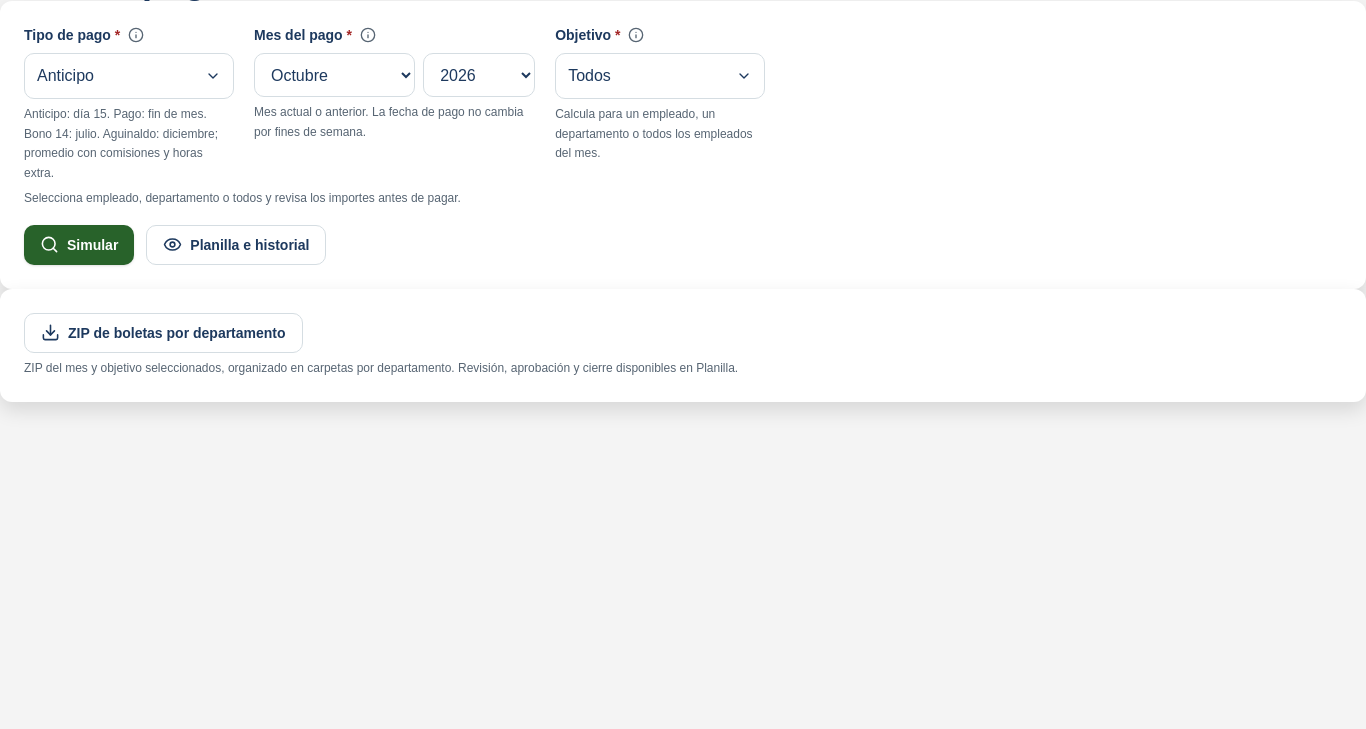
Test case: A11: simulación guiada y confirmación › confirmación final usa hash, evita doble envío y orienta si cambian las fuentes
Click the button "Simular" at (79, 244), box x1=24 y1=224 x2=134 y2=264
(page scrolled)
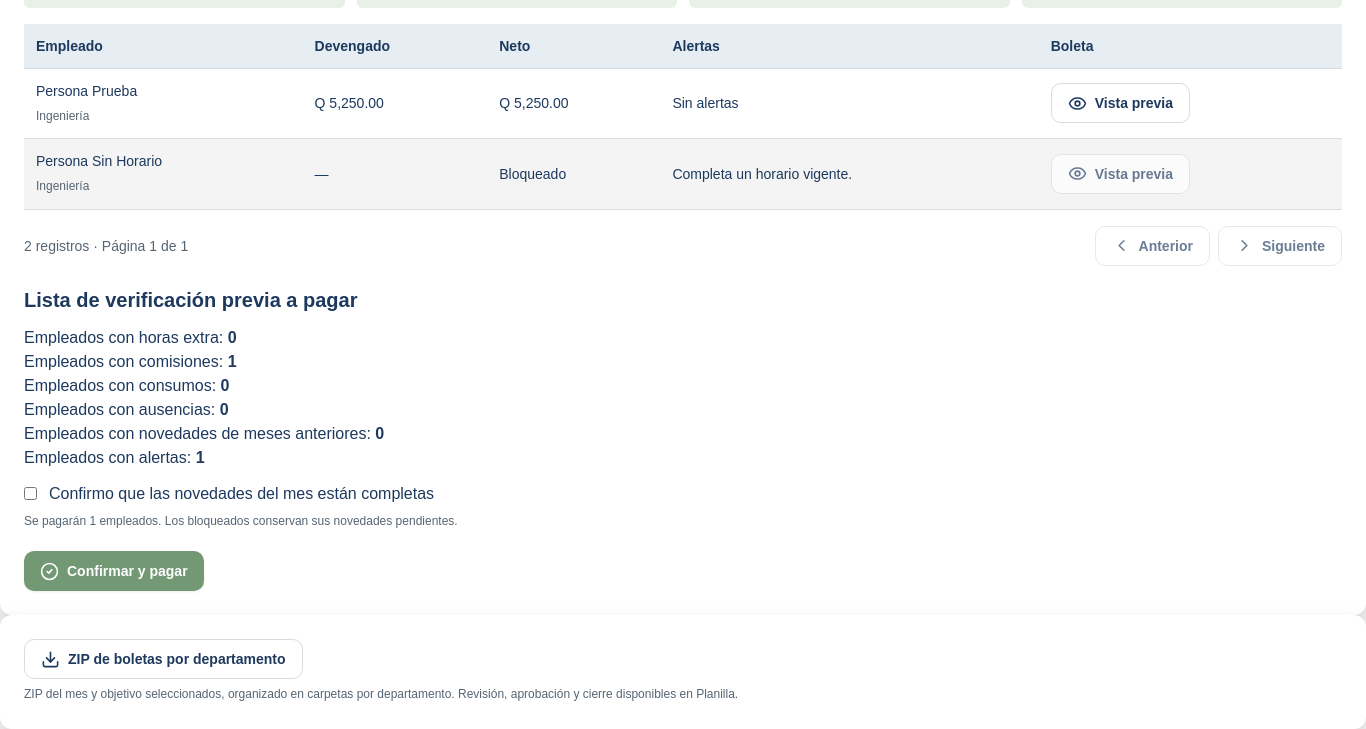
Expected: the text "Persona Prueba" is shown, x1=36 y1=82 x2=137 y2=98
Click the checkbox at (30, 494), box x1=24 y1=487 x2=37 y2=500
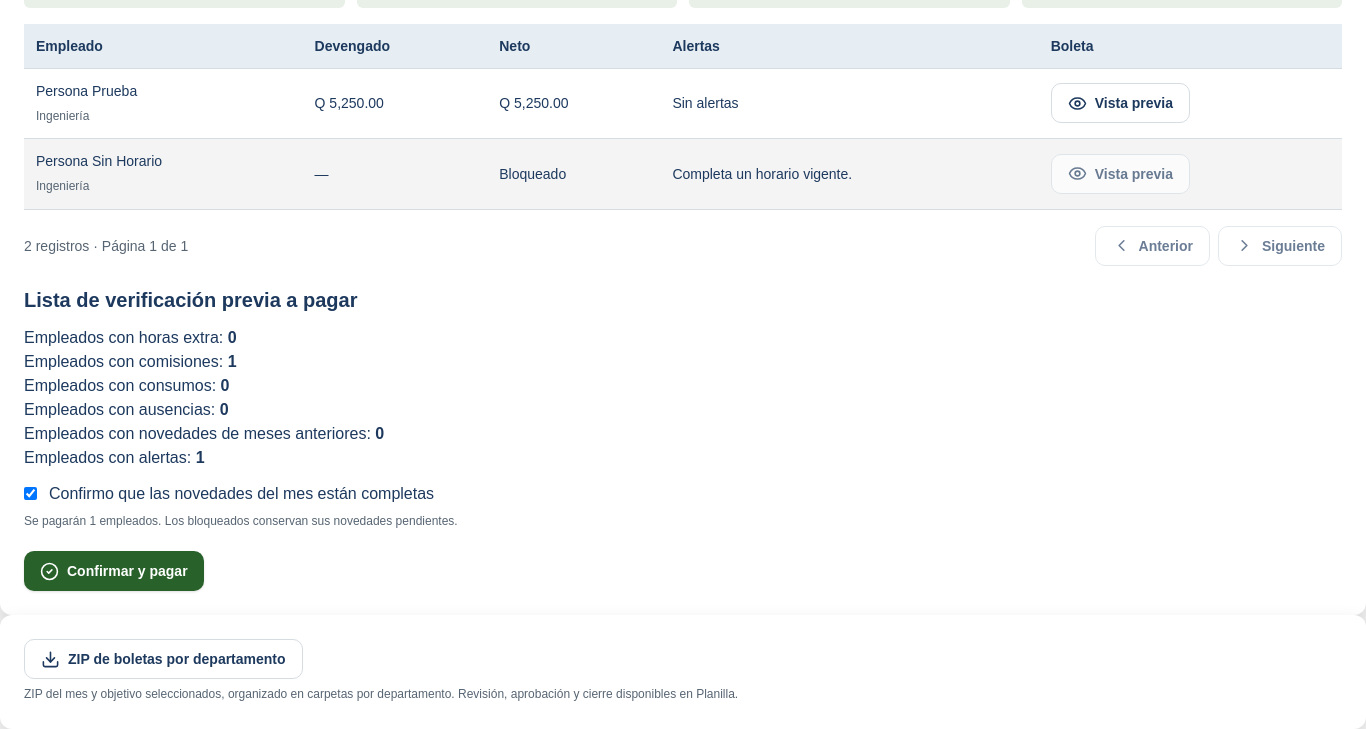
Click the button "Confirmar y pagar" at (114, 571), box x1=24 y1=551 x2=204 y2=591
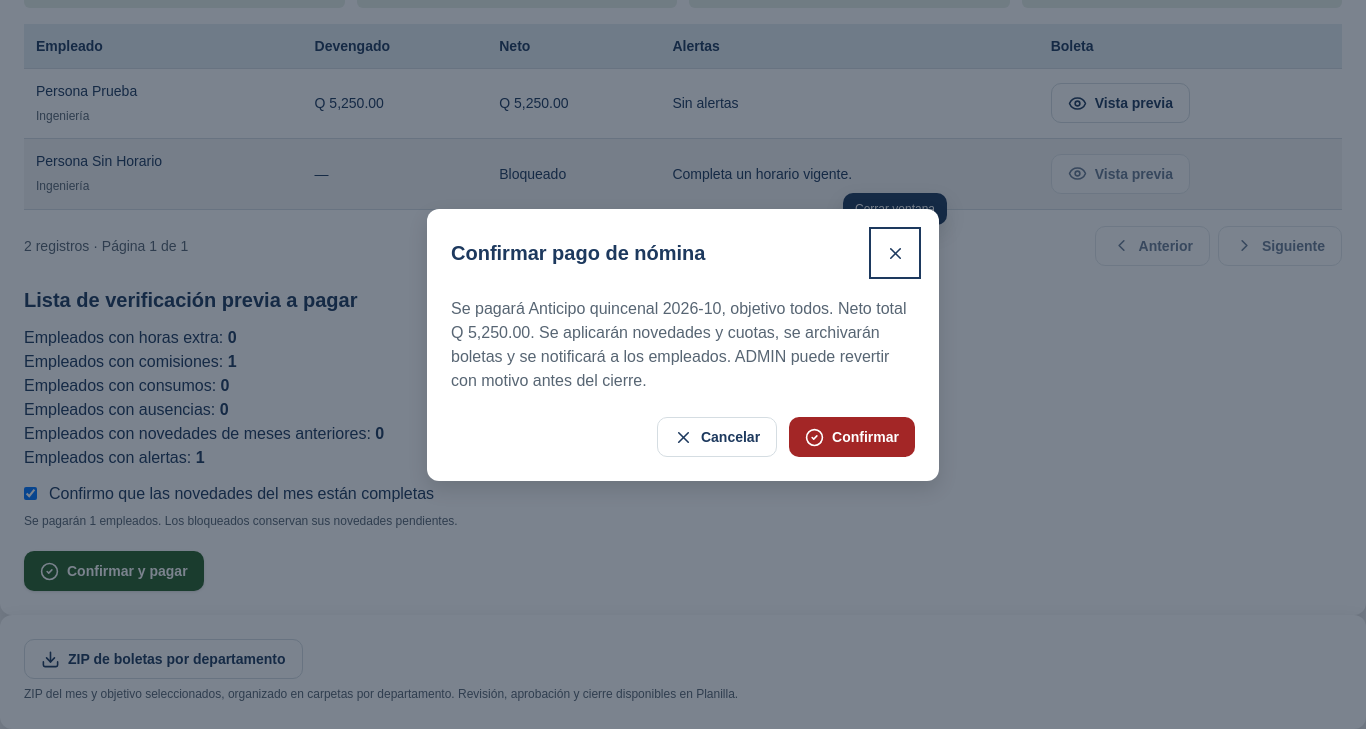
Click the button "Confirmar" at (852, 437), box x1=789 y1=417 x2=915 y2=457
(page scrolled)
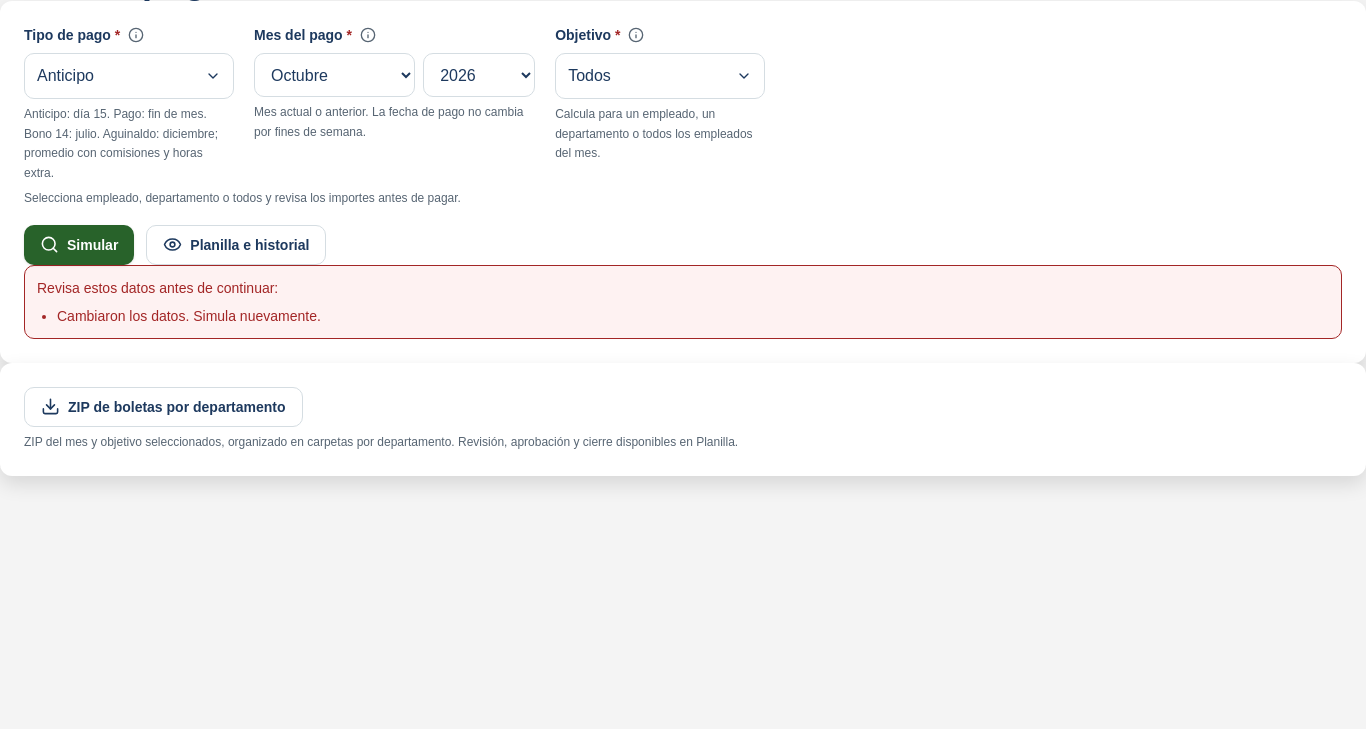
Expected: the list item "Cambiaron los datos. Simula nuevamente." is shown, x1=57 y1=308 x2=321 y2=324
Expected: the checkbox is gone
